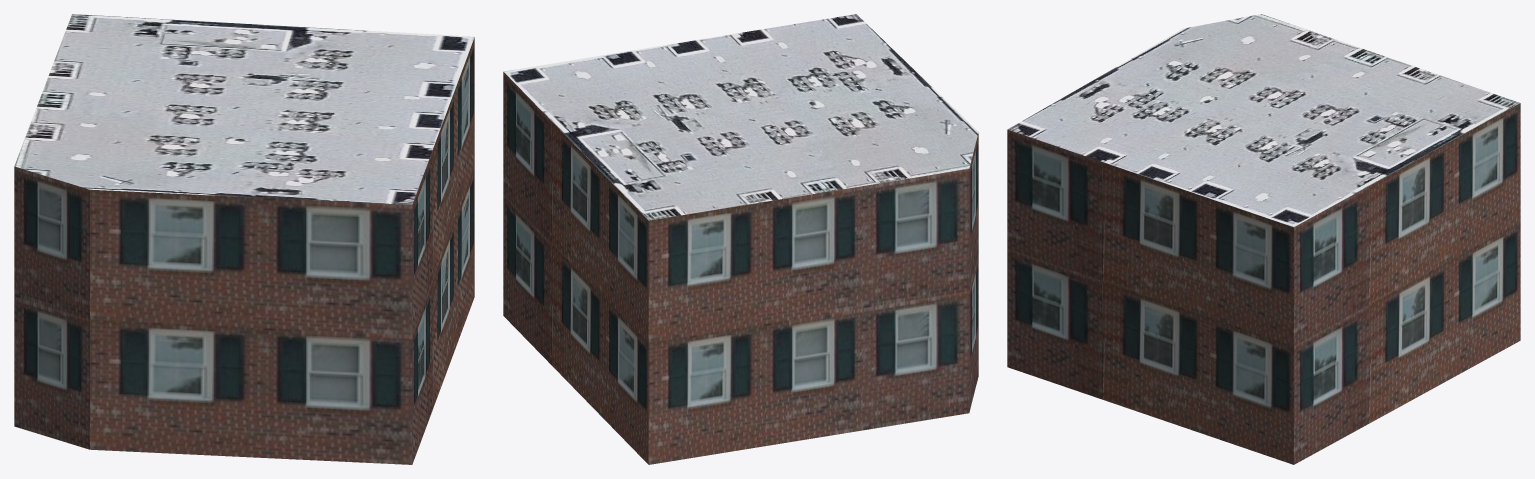
File: ResTex__1082.fbx
3 renders of one model, left to right at view 1: azimuth 30°, elevation 25°; view 2: azimuth 150°, elevation 25°; view 3: azimuth 270°, elevation 25°, orthographic. The views are drawn at different scales.
Visible parts, largest first — view 1: CityEngineMaterial_14_m, CityEngineMaterial_2_m; view 2: CityEngineMaterial_14_m, CityEngineMaterial_2_m; view 3: CityEngineMaterial_14_m, CityEngineMaterial_2_m.
Part boxes in pixels (<box>): CityEngineMaterial_14_m: <box>14,37,474,464</box>; CityEngineMaterial_2_m: <box>14,14,474,204</box>; CityEngineMaterial_14_m: <box>503,72,978,464</box>; CityEngineMaterial_2_m: <box>503,14,978,220</box>; CityEngineMaterial_14_m: <box>1007,103,1520,464</box>; CityEngineMaterial_2_m: <box>1008,14,1519,227</box>.
Size of the model in its own units: 11.55 by 6 by 11.74.
Materials: 2 (2 with a texture image).
